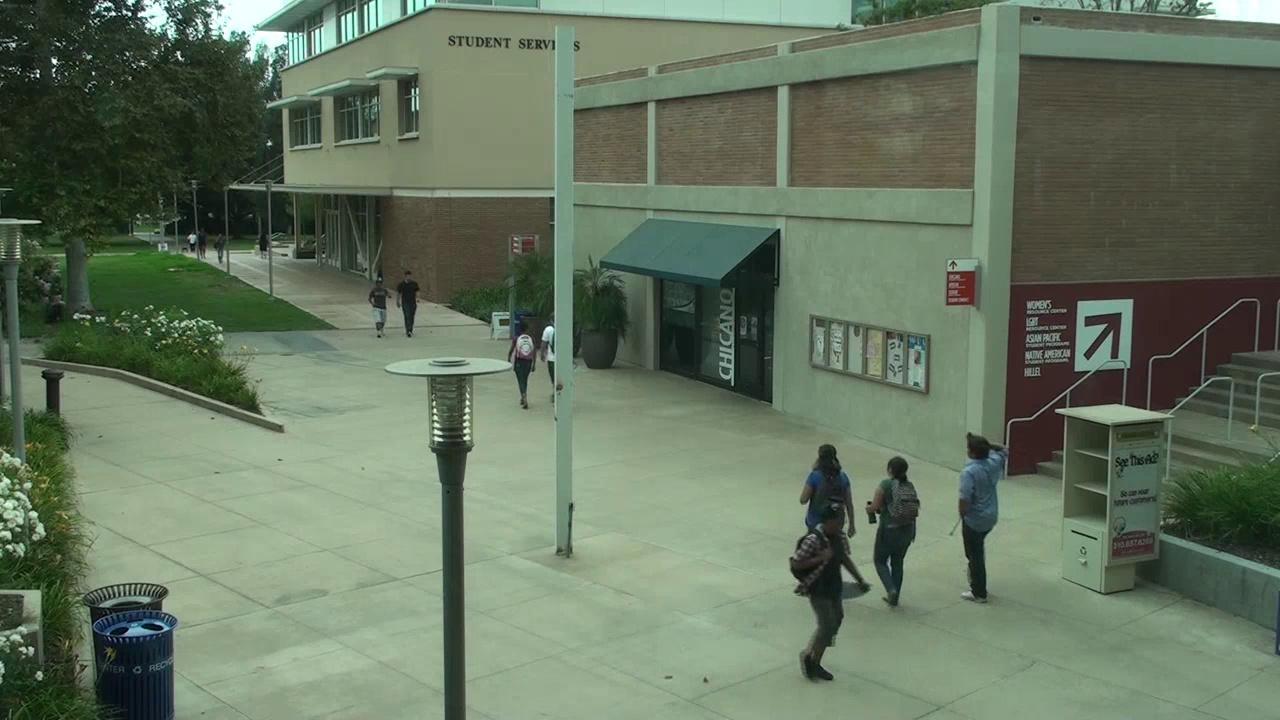person: (789, 505, 869, 680), (958, 433, 1006, 602), (867, 456, 920, 606), (800, 444, 851, 527), (878, 457, 919, 526), (508, 323, 536, 408), (540, 312, 561, 402), (396, 271, 419, 336), (368, 277, 389, 337)
